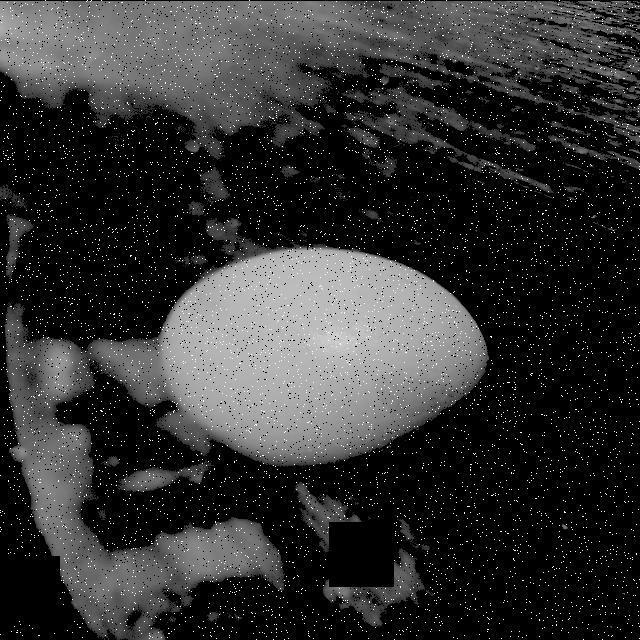egg: (151, 236, 501, 484)
